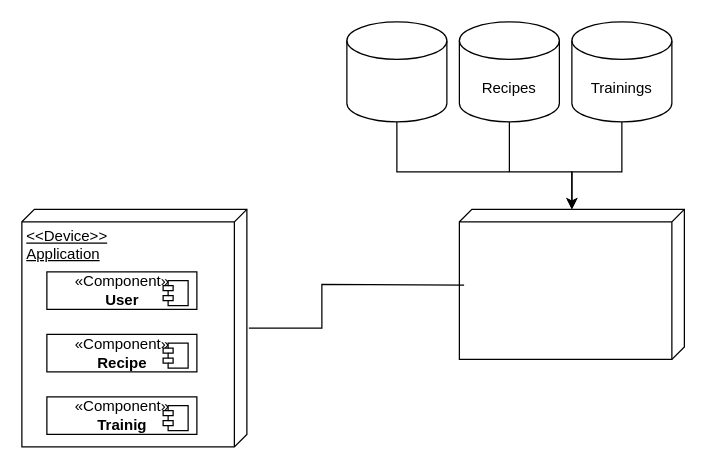
Some shapes in this 706 by 469 pixel diagram are drawn without their labels. Here are the shapes that lost their labels. From the top down, the centre of each, then its label:
At (x=396, y=71): "Users".
At (x=571, y=283): "<<Device>> DbServer".
